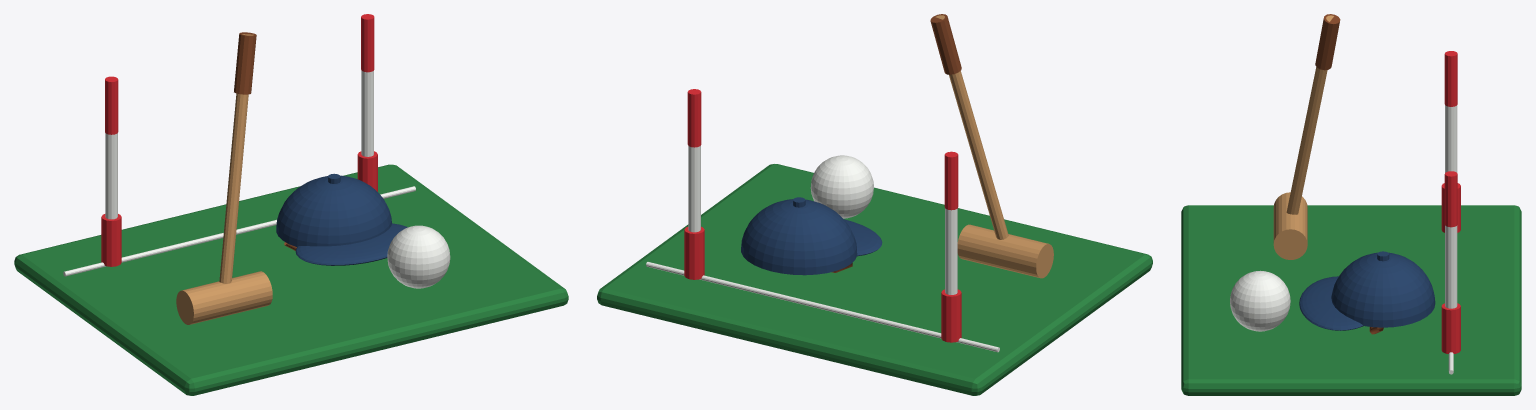
The model's file is polo.glb.
The picture shows the model from 3 angles, left to right: view 1: azimuth 30°, elevation 25°; view 2: azimuth 150°, elevation 25°; view 3: azimuth 270°, elevation 25°; orthographic projection. The views are drawn at different scales.
Visible parts, largest first — view 1: polo; view 2: polo; view 3: polo.
Part boxes in pixels (x1,y1,x2,y2): polo: (14, 14, 568, 395); polo: (597, 14, 1152, 395); polo: (1181, 14, 1521, 395).
Size of the model in its own units: 0.35 by 0.2417 by 0.28.
